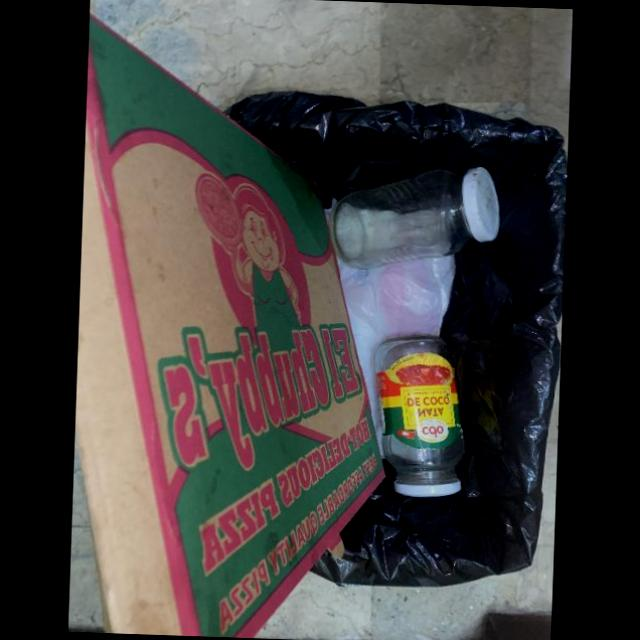carton: (74, 13, 384, 638)
chai_thuy_tinh: (328, 166, 500, 270), (374, 335, 464, 498)
